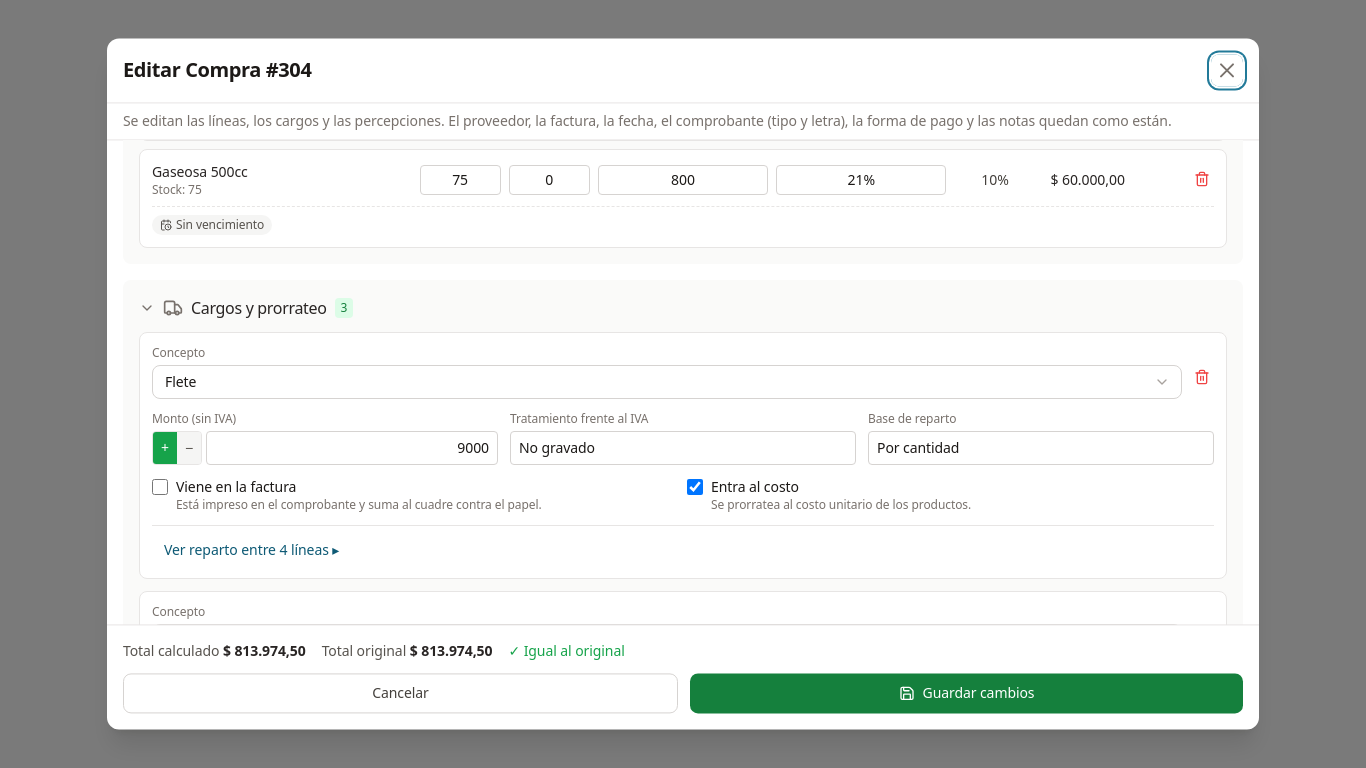
ModalCompra 'editar' · "Cambiar proveedor" › se traba al cambiar un CARGO (el flujo clona la compra de la base)
(page scrolled)
# Combobox del catálogo (mig 278): Enter confirma "+ Crear".
In the dropdown showing "Flete": x=667, y=382 [152,365,1182,399], type "Flete Andreani"
Then press Enter
(page scrolled)
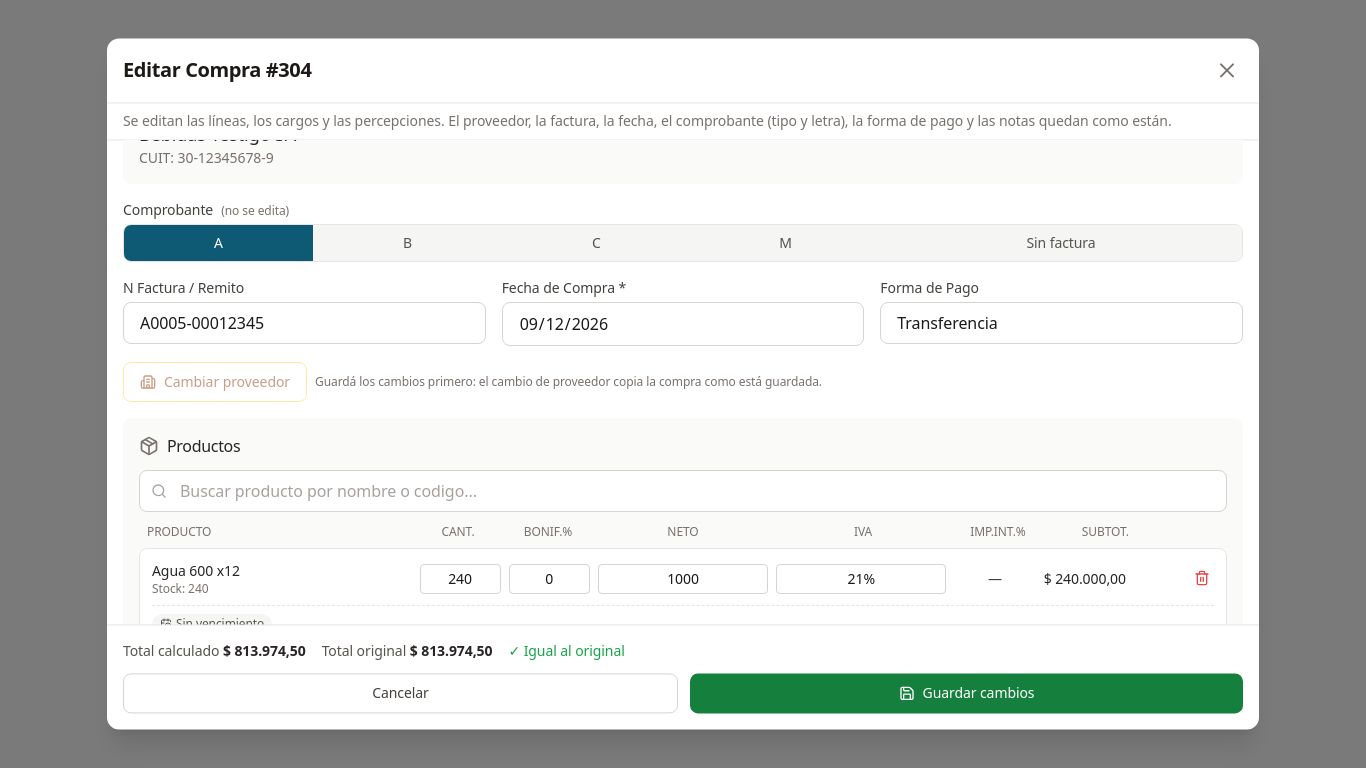
Expected: the button "Cambiar proveedor" is disabled, [123,362,307,402]
Expected: the text "Guardá los cambios primero" is shown, [315,373,822,390]
